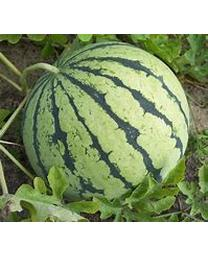watermelon: (22, 42, 191, 206)
